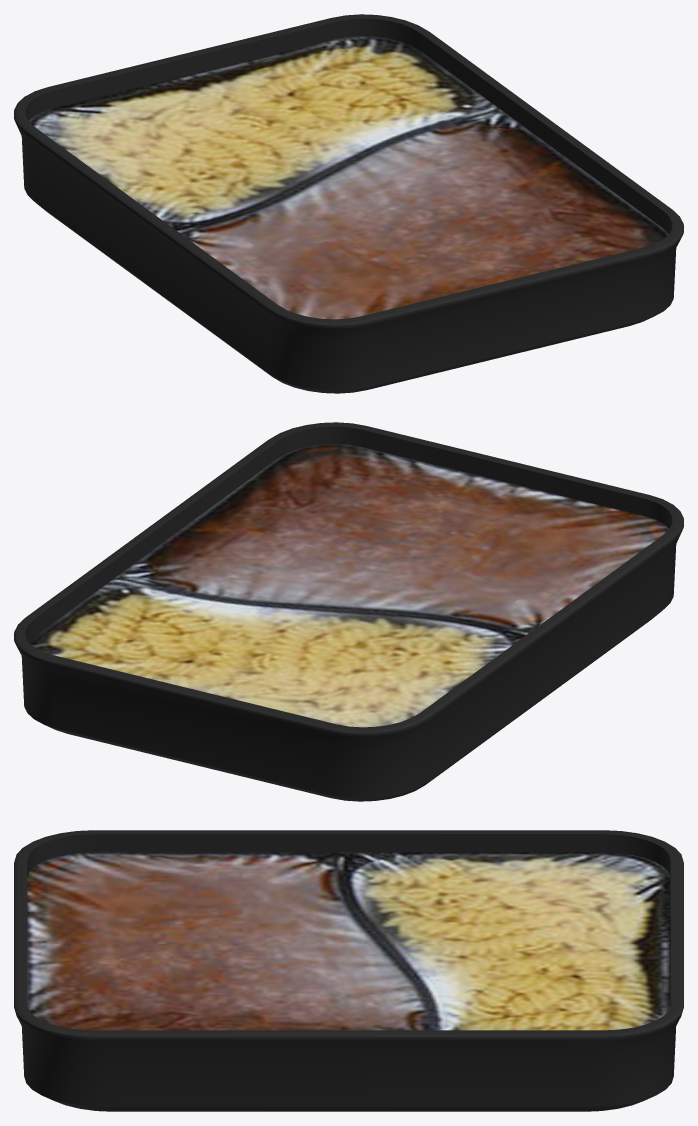
Rendered from Prepared food 1.FBX.
3 renders of one model, top to bottom at view 1: azimuth 30°, elevation 25°; view 2: azimuth 150°, elevation 25°; view 3: azimuth 270°, elevation 25°, orthographic. The views are drawn at different scales.
Visible parts, largest first — view 1: Prepared food 1; view 2: Prepared food 1; view 3: Prepared food 1.
Part boxes in pixels (x1,y1,x2,y2): Prepared food 1: [14, 14, 683, 393]; Prepared food 1: [14, 422, 683, 801]; Prepared food 1: [14, 830, 683, 1111].
Size of the model in its own units: 15.28 by 2.87 by 20.95.
Materials: 1 (1 with a texture image).
